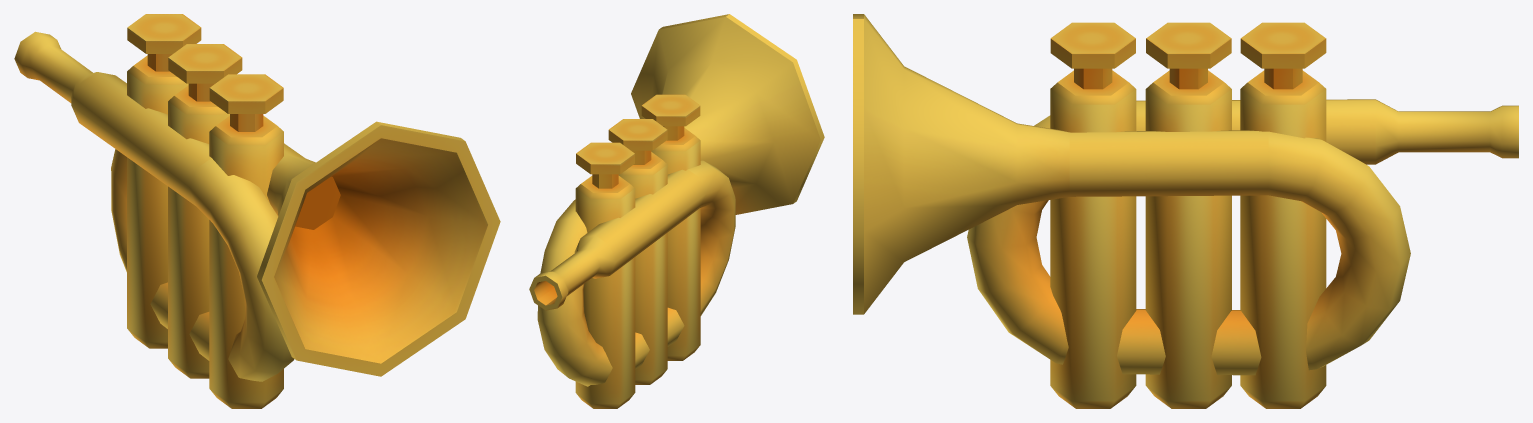
File: trumpet.FBX
3 renders of one model, left to right at view 1: azimuth 30°, elevation 25°; view 2: azimuth 150°, elevation 25°; view 3: azimuth 270°, elevation 25°, orthographic. The views are drawn at different scales.
Visible parts, largest first — view 1: trumpet; view 2: trumpet; view 3: trumpet.
Part boxes in pixels (bbox=[...]): trumpet: bbox=[14, 14, 500, 408]; trumpet: bbox=[529, 14, 824, 408]; trumpet: bbox=[853, 14, 1518, 408].
Bounding box in the file's own units: 26.96 × 36.85 × 56.39.
